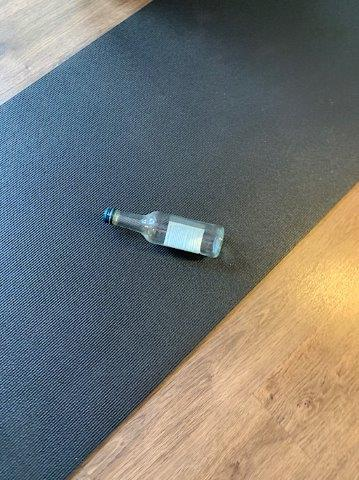botolkaca: (103, 208, 225, 257)
